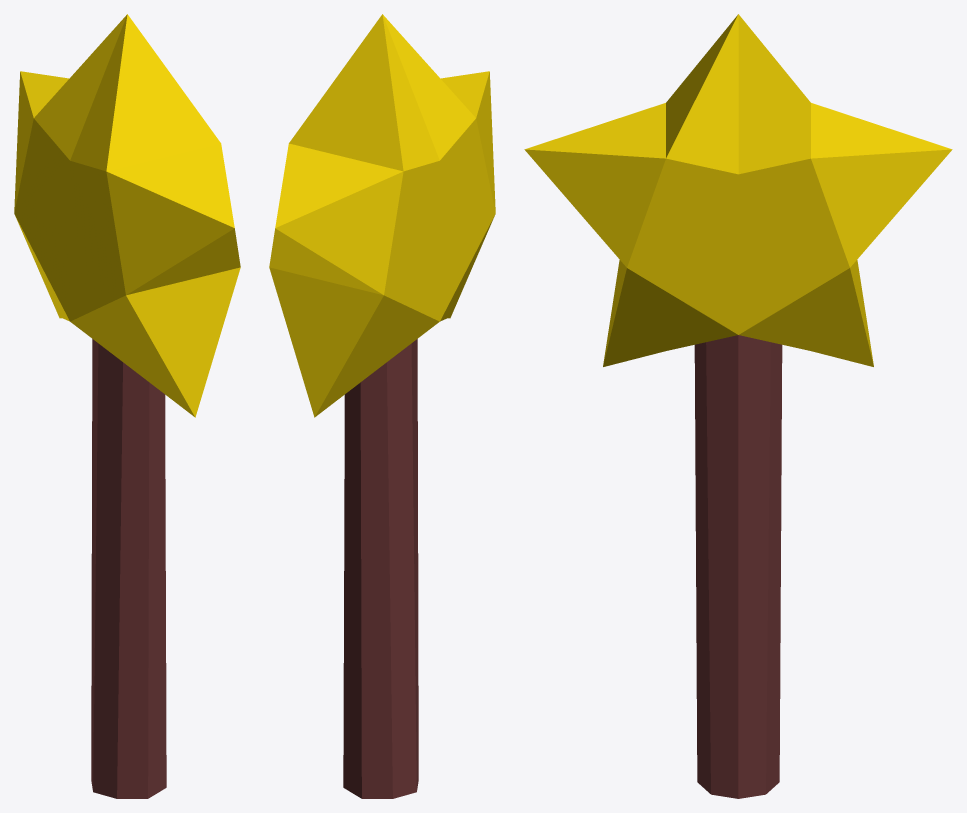
The model's file is wand.fbx.
3 views of the same model, side by side, from view 1: azimuth 30°, elevation 25°; view 2: azimuth 150°, elevation 25°; view 3: azimuth 270°, elevation 25° (orthographic).
Parts seen in each view (by area): view 1: Cube; view 2: Cube; view 3: Cube.
Boxes of the visible parts, left/top/right/bottom form: Cube: left=14, top=14, right=240, bottom=798; Cube: left=269, top=14, right=495, bottom=798; Cube: left=524, top=14, right=952, bottom=798.
Bounding box in the file's own units: 129 × 826 × 417.
